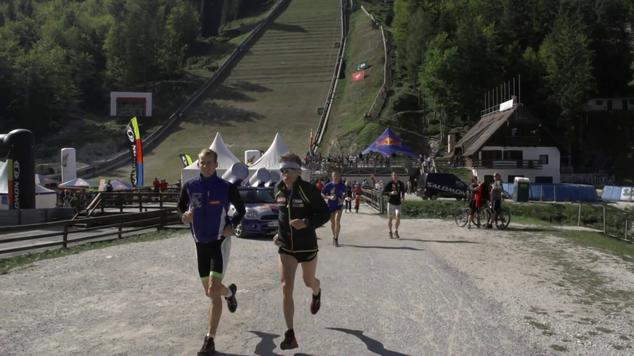sit: (378, 160, 410, 245)
stay: (265, 158, 332, 340), (178, 140, 240, 326), (378, 160, 410, 245), (317, 163, 346, 249), (384, 175, 405, 228)
walk: (265, 158, 332, 340)
